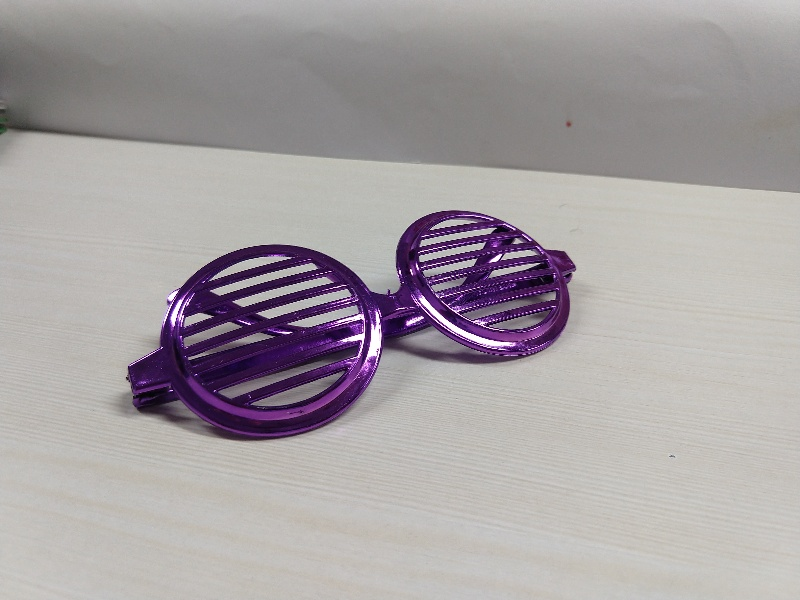shades: (119, 202, 581, 451)
